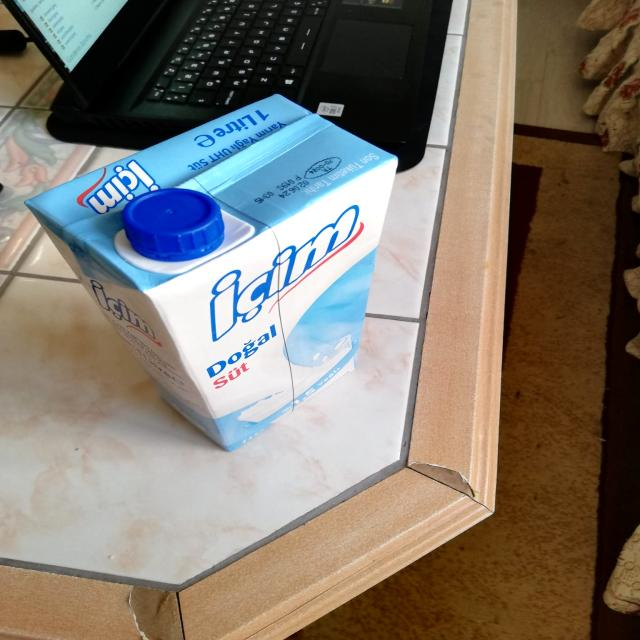milk: (22, 99, 397, 454)
